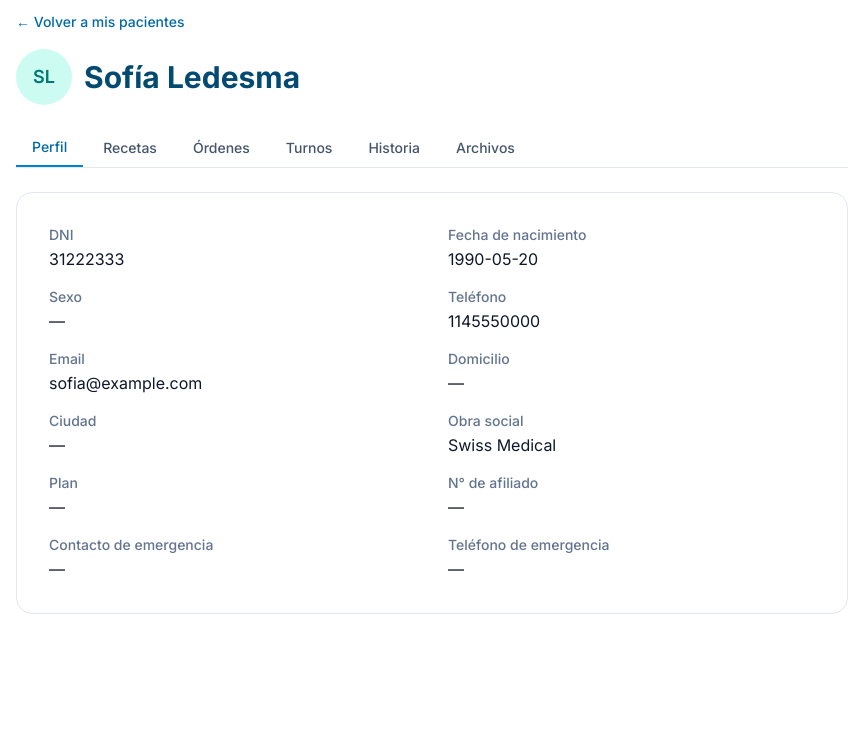
Test: DoctorPatientDetailPage › muestra el estado vacío de recetas y abre el formulario
The image size is (865, 745).
Check: the heading "Sofía Ledesma" is shown, box [84, 59, 300, 95]
Step 1. Click the tab "Recetas" → {"x": 130, "y": 148}, box [87, 129, 173, 167]
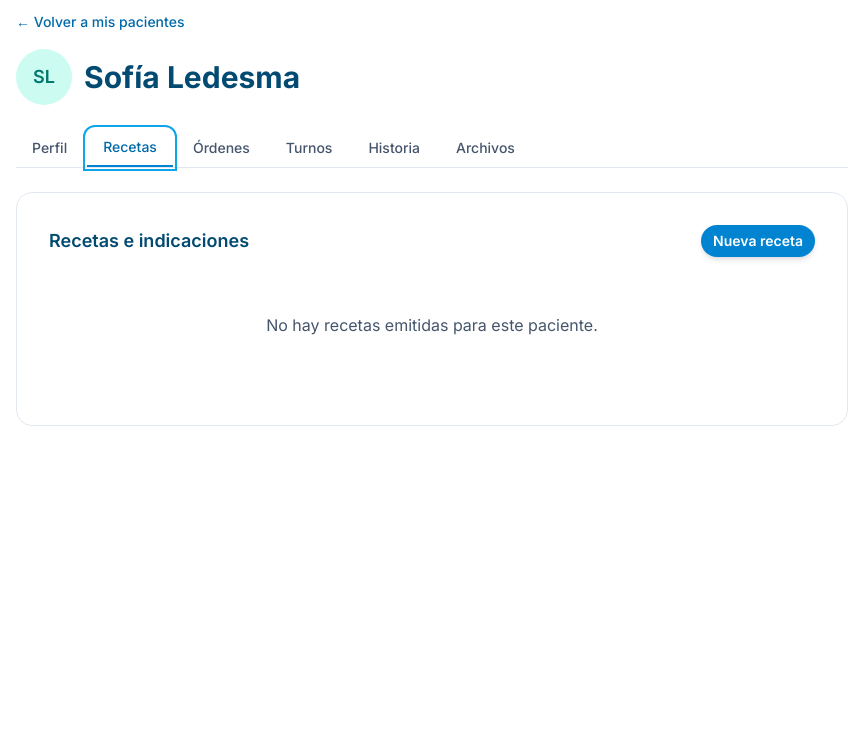
Check: the text "No hay recetas emitidas para este paciente." is shown, box [266, 315, 598, 335]
Step 2. Click the button "Nueva receta" → {"x": 758, "y": 241}, box [701, 225, 815, 257]
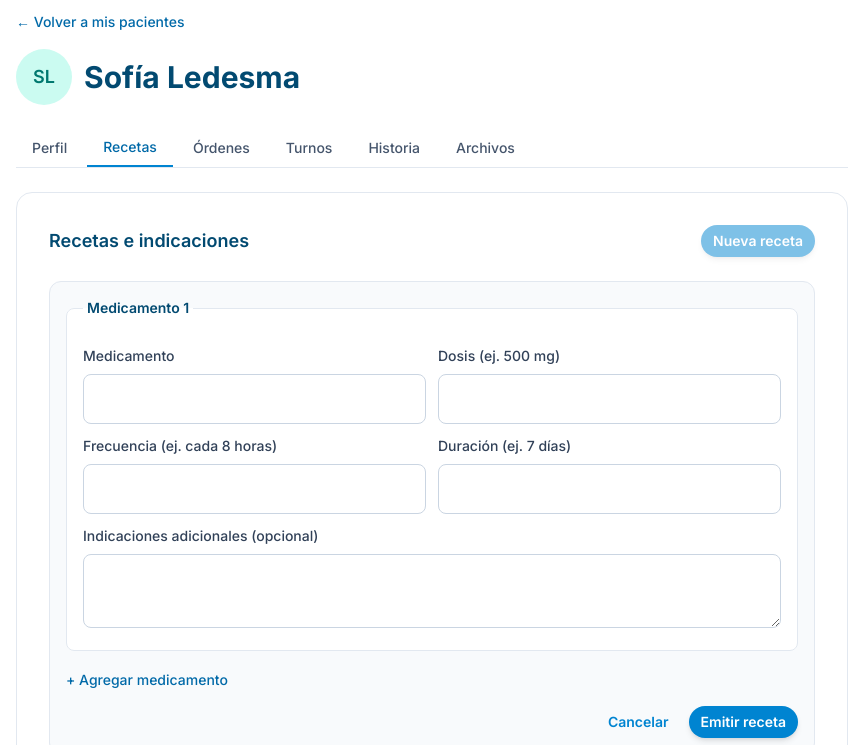
Check: the field labelled "Medicamento" is shown, box [83, 374, 426, 424]
Check: the field labelled "Dosis (ej. 500 mg)" is shown, box [438, 374, 781, 424]
